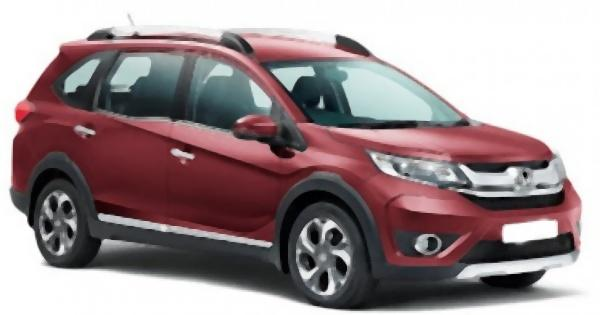Car hood: (319, 121, 553, 164)
Driver-s door - -F-R-: (162, 26, 299, 270)
Fender - -F-R-: (271, 124, 376, 256)
Fender - -R-R-: (6, 30, 88, 229)
Front bumper: (347, 172, 583, 292)
Headlight - -L-: (547, 151, 568, 190)
Headlight - -R-: (367, 148, 472, 194)
Passenger-s door - -R-R-: (63, 27, 193, 255)
Rear light - -R-: (15, 96, 37, 128)
Side bumper - -R-: (84, 206, 281, 275)
Side mirror - -R-: (231, 112, 288, 151)
